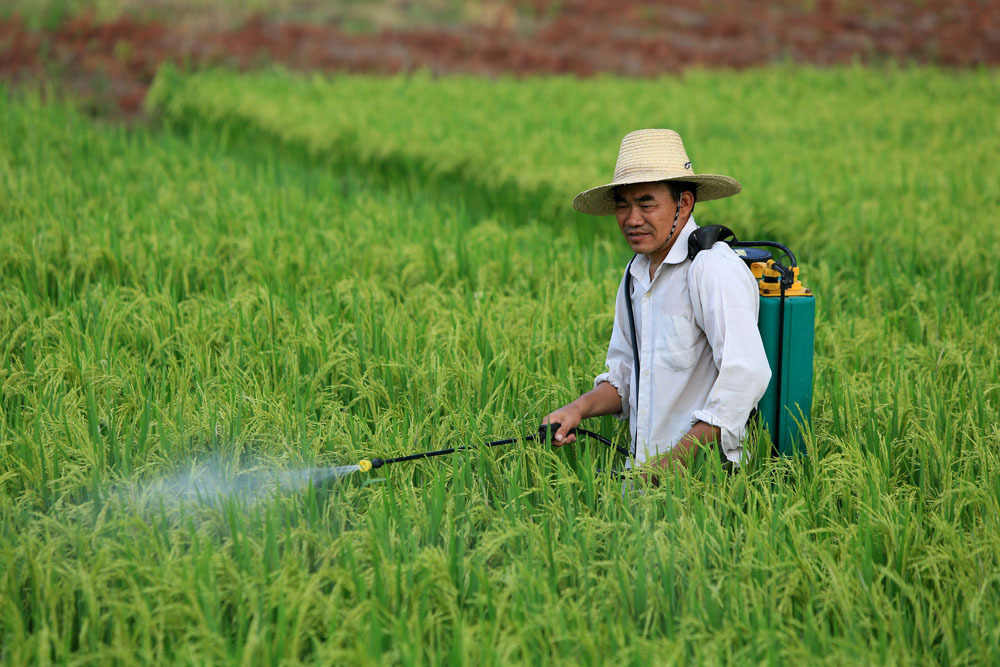berrl: (731, 243, 817, 468)
